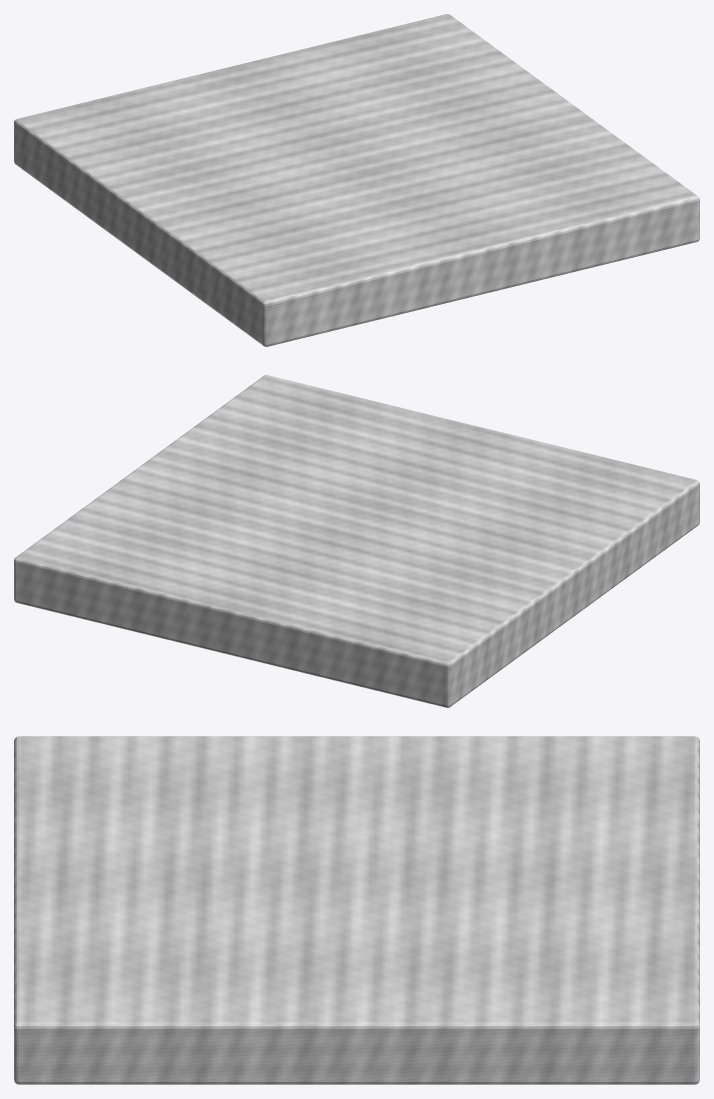
Rendered from foundations_variant_a.glb.
3 views of the same model, one above another, from view 1: azimuth 30°, elevation 25°; view 2: azimuth 150°, elevation 25°; view 3: azimuth 270°, elevation 25° (orthographic). The views are drawn at different scales.
Visible parts, largest first — view 1: Foundation slab; view 2: Foundation slab; view 3: Foundation slab.
Boxes of the visible parts, x1=… form: Foundation slab: x1=14, y1=14, x2=699, y2=346; Foundation slab: x1=14, y1=375, x2=699, y2=707; Foundation slab: x1=14, y1=736, x2=699, y2=1084.
Size of what is drawn, in the model's own units: 8 by 0.8 by 8.
Materials: 2 (2 with a texture image).
